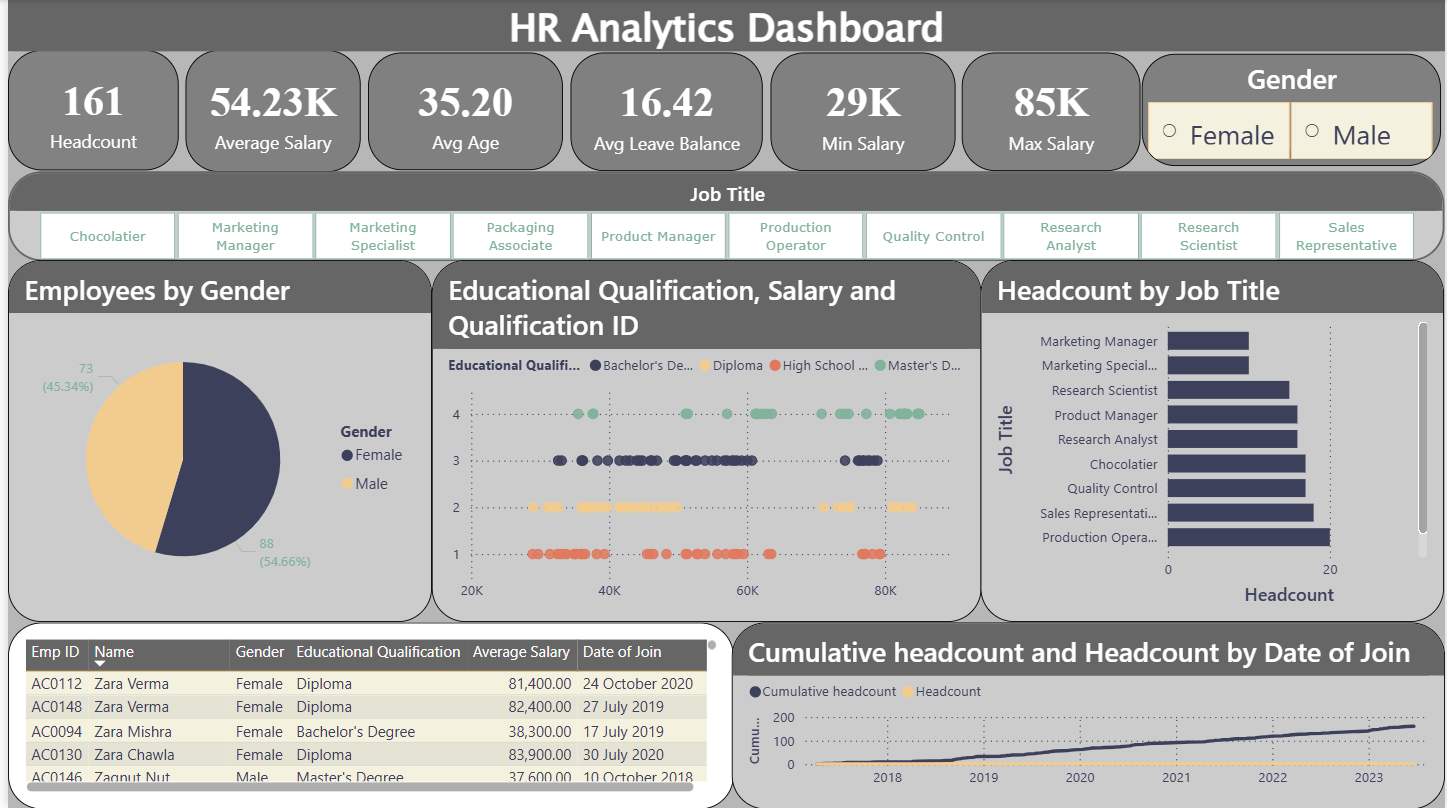

The dashboard page shown, as its layout file describes it:
{"tool":"powerbi","page":{"name":"Dashboard Overview","canvas":[1280,720],"ordinal":9},"visuals":[{"type":"card","fields":{"Values":["Employee details.Headcount"]},"box":[0,44.9,152,107.4],"z":0},{"type":"card","fields":{"Values":["Employee details.Average Salary"]},"box":[158,44.6,155.6,108.6],"z":1000},{"type":"card","fields":{"Values":["Employee details.Avg Age"]},"box":[320.5,47.3,173.7,105],"z":2000},{"type":"card","fields":{"Values":["Employee details.Avg Leave Balance"]},"box":[500.7,46.8,171.5,105.7],"z":3000},{"type":"card","fields":{"Values":["Employee details.Min Salary"]},"box":[678.7,47.3,164.7,105.7],"z":4000},{"type":"textbox","title":"HR Analytics Dashboard","box":[0,0,1280.3,45.3],"z":5000},{"type":"advancedSlicerVisual","fields":{"Values":["Employee details.Gender"]},"box":[1010,47.5,266,100],"z":6000},{"type":"slicer","title":"Job Title","fields":{"Values":["Employee details.Job Title"]},"box":[0,153,1278.8,79.6],"z":7000},{"type":"card","fields":{"Values":["Employee details.Max Salary"]},"box":[849.8,47.1,159.2,105.7],"z":8000},{"type":"pieChart","title":"Employees by Gender","fields":{"Y":["Employee details.Headcount"],"Category":["Employee details.Gender"]},"box":[0,231.9,377.4,322.5],"z":9000},{"type":"scatterChart","title":" Educational Qualification, Salary and Qualification ID ","fields":{"Series":["Education Qualification.Educational Qualification"],"X":["Employee details.Salary"],"Y":["Education Qualification.Qualification ID "]},"box":[377.4,231.9,489.9,322.5],"z":10000},{"type":"tableEx","fields":{"Values":["Employee details.Emp ID","Employee details.Name","Employee details.Gender","Education Qualification.Educational Qualification","Employee details.Average Salary","Employee details.Date of Join"]},"box":[0,554.4,646.3,166],"z":11000},{"type":"lineChart","fields":{"Category":["Employee details.Date of Join"],"Y":["Employee details.Cumulative headcount","Employee details.Headcount"]},"box":[644.9,554.4,635.3,166],"z":12000},{"type":"clusteredBarChart","fields":{"Category":["Employee details.Job Title"],"Y":["Employee details.Headcount"]},"box":[865.9,231.9,413,322.5],"z":13000}]}

Visuals, with their boxes in screenshot pixels (x1, y1, x2, y2), scaled from the page's 1280x720 canvas onto the 1447x808 screenshot:
card - Employee details.Headcount: <region>0, 50, 172, 171</region>
card - Employee details.Average Salary: <region>179, 50, 355, 172</region>
card - Employee details.Avg Age: <region>362, 53, 559, 171</region>
card - Employee details.Avg Leave Balance: <region>566, 53, 760, 171</region>
card - Employee details.Min Salary: <region>767, 53, 953, 172</region>
"HR Analytics Dashboard" textbox: <region>0, 0, 1446, 51</region>
advancedSlicerVisual - Employee details.Gender: <region>1142, 53, 1442, 166</region>
"Job Title" slicer: <region>0, 172, 1446, 261</region>
card - Employee details.Max Salary: <region>961, 53, 1141, 171</region>
"Employees by Gender" pieChart: <region>0, 260, 427, 622</region>
" Educational Qualification, Salary and Qualification ID " scatterChart: <region>427, 260, 980, 622</region>
tableEx - Employee details.Emp ID x Employee details.Name: <region>0, 622, 731, 807</region>
lineChart - Employee details.Date of Join x Employee details.Cumulative headcount: <region>729, 622, 1446, 807</region>
clusteredBarChart - Employee details.Job Title x Employee details.Headcount: <region>979, 260, 1446, 622</region>
